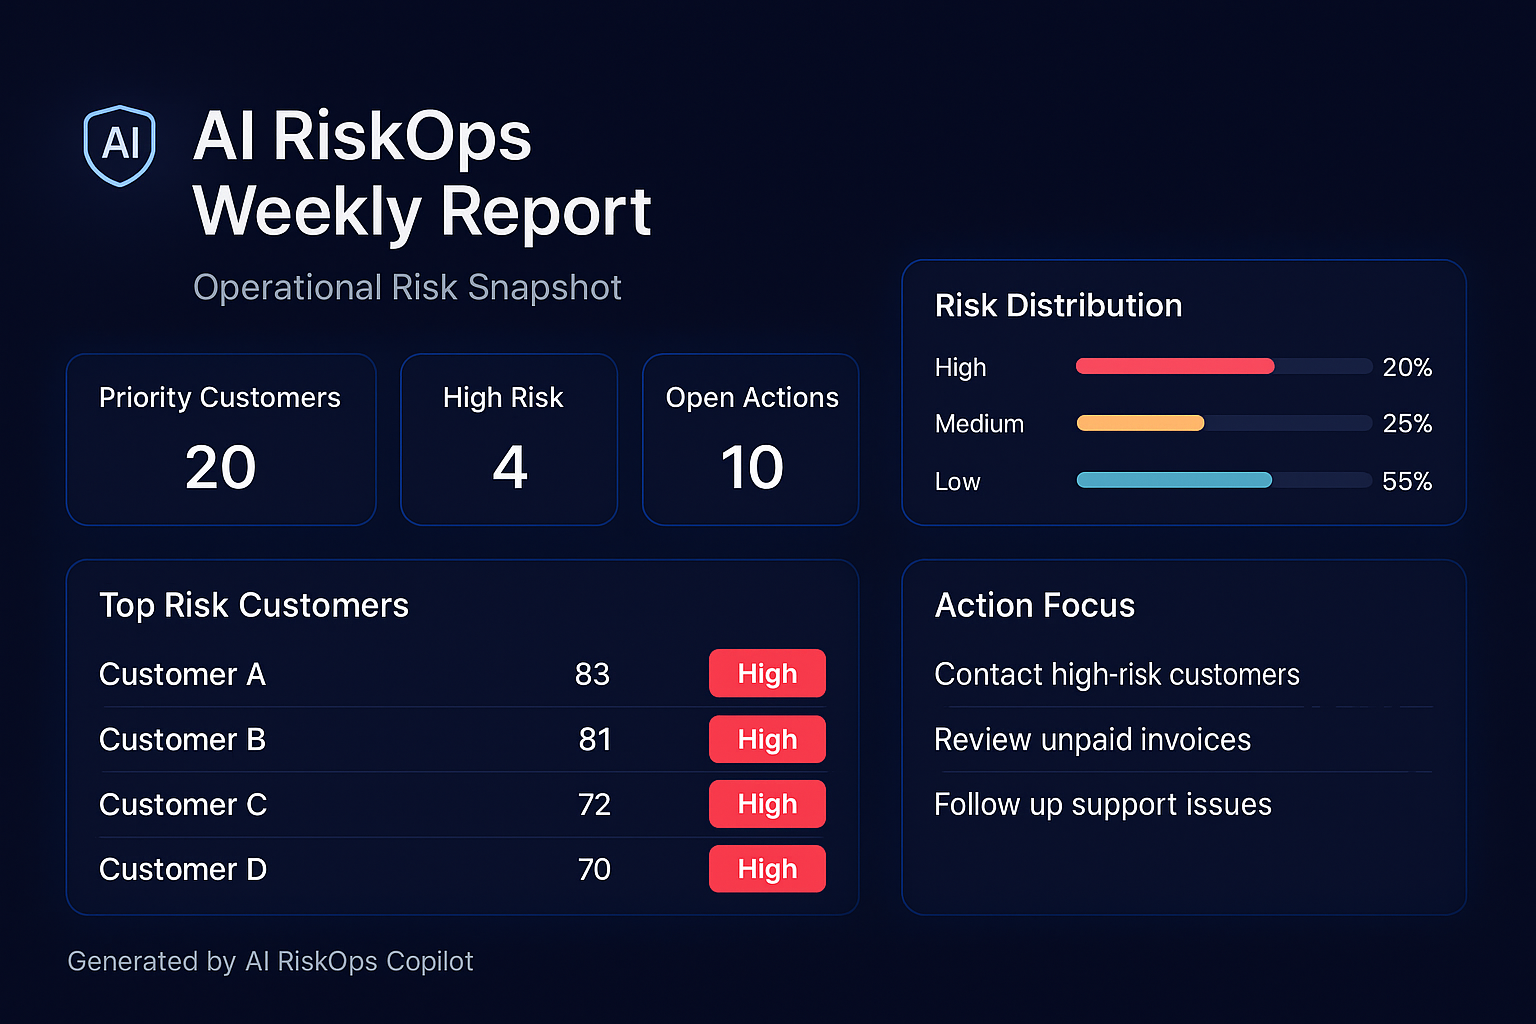

The dashboard page shown, as its layout file describes it:
{"tool":"powerbi","page":{"name":"Executive Overview","canvas":[1280,720],"ordinal":0},"visuals":[{"type":"textbox","box":[10,0,595,60],"z":0},{"type":"cardVisual","fields":{"Data":["_Measures.Total Customers","_Measures.High Risk Customers","_Measures.Open Actions","_Measures.Overdue Actions","_Measures.RiskOps Pressure Score"]},"box":[0,102.5,1280,111.2],"z":1000},{"type":"donutChart","title":"Risk Distribution","fields":{"Category":["Risk_Customers.risk_level"],"Y":["_Measures.Total Customers"]},"box":[0,213.8,621.2,266.2],"z":2000},{"type":"clusteredColumnChart","title":"Actions by Priority","fields":{"Category":["Action_Board.priority"],"Y":["_Measures.Total Actions"]},"box":[621.2,213.8,658.8,266.2],"z":3000},{"type":"tableEx","title":"Top Risk Customers","fields":{"Values":["Risk_Customers.Customer Alias","Risk_Customers.risk_level","Risk_Customers.risk_score","Risk_Customers.confidence","Risk_Customers.top_reasons","Risk_Customers.next_best_action","Risk_Customers.owner","Risk_Customers.Due Date Display"]},"box":[0,479.6,1280,240.6],"z":4000},{"type":"pageNavigator","box":[0,60,1280,52.5],"z":5000}]}

Visuals, with their boxes on the page's 1280x720 design canvas (x1, y1, x2, y2). These are canvas units, not pixel positions in the 1536x1024 screenshot, which may show the page scaled, cropped or inside an application window:
textbox: x1=10 y1=0 x2=605 y2=60
cardVisual - _Measures.Total Customers x _Measures.High Risk Customers: x1=0 y1=102 x2=1280 y2=214
"Risk Distribution" donutChart: x1=0 y1=214 x2=621 y2=480
"Actions by Priority" clusteredColumnChart: x1=621 y1=214 x2=1280 y2=480
"Top Risk Customers" tableEx: x1=0 y1=480 x2=1280 y2=720
pageNavigator: x1=0 y1=60 x2=1280 y2=112
